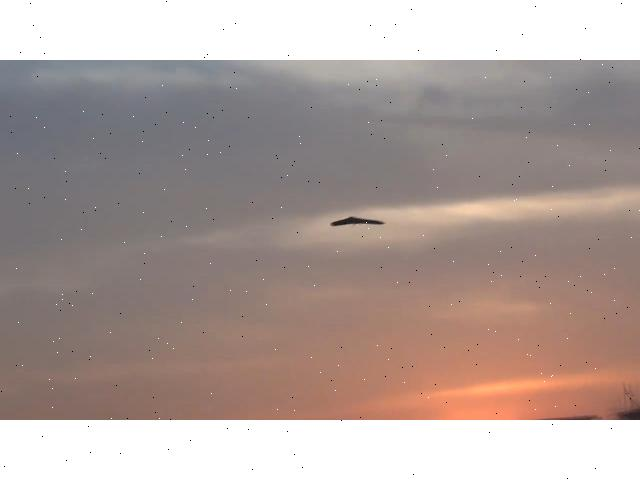Anti-Drone: (330, 217, 384, 227)
